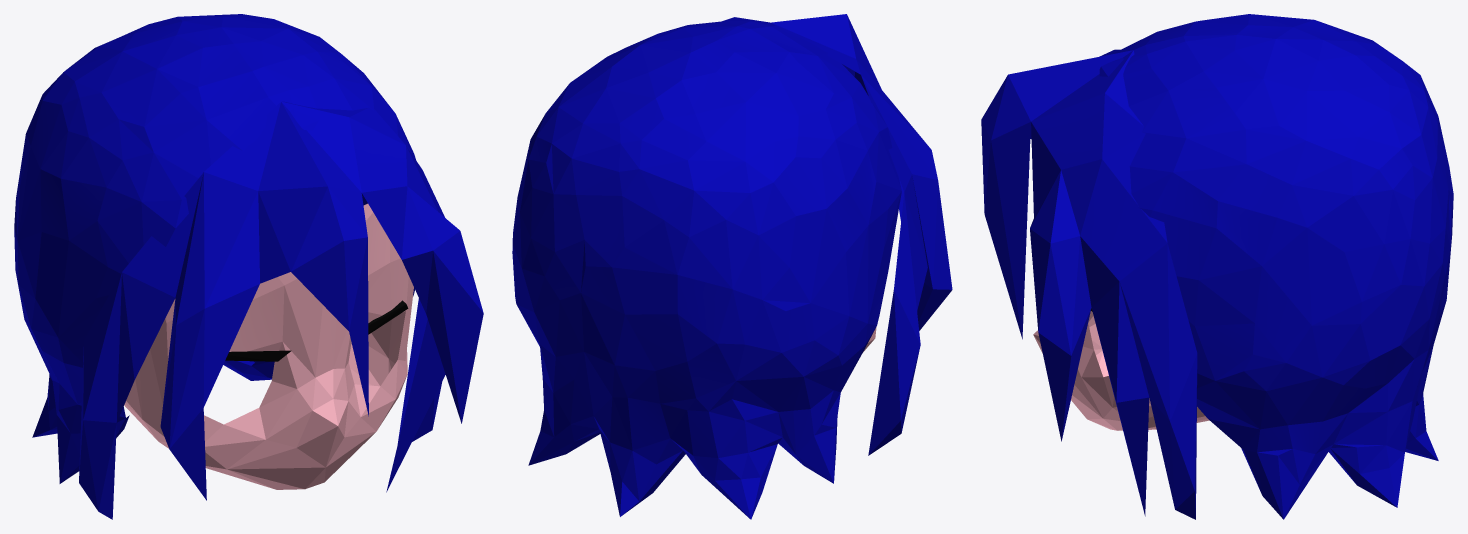
Rendered from aria_head_simple.dae.
3 views of the same model, side by side, from view 1: azimuth 30°, elevation 25°; view 2: azimuth 150°, elevation 25°; view 3: azimuth 270°, elevation 25° (orthographic). The views are drawn at different scales.
Visible parts, largest first — view 1: a5f21a36-859b-4f84-bf82-5e4c98789c72, a2bf2b2e-cf74-4709-9c45-f41681a4c357, ab307a9d-95cd-4d57-b2db-cdcf153a71d0, b43e9d9f-bdd3-499b-97bf-edc30b891325; view 2: a2bf2b2e-cf74-4709-9c45-f41681a4c357, a5f21a36-859b-4f84-bf82-5e4c98789c72; view 3: a2bf2b2e-cf74-4709-9c45-f41681a4c357, a5f21a36-859b-4f84-bf82-5e4c98789c72, ab307a9d-95cd-4d57-b2db-cdcf153a71d0.
Part boxes in pixels (x1,y1,x2,y2): a5f21a36-859b-4f84-bf82-5e4c98789c72: (79, 101, 483, 519); a2bf2b2e-cf74-4709-9c45-f41681a4c357: (14, 14, 415, 483); ab307a9d-95cd-4d57-b2db-cdcf153a71d0: (124, 203, 413, 489); b43e9d9f-bdd3-499b-97bf-edc30b891325: (225, 350, 291, 361); a2bf2b2e-cf74-4709-9c45-f41681a4c357: (512, 21, 901, 519); a5f21a36-859b-4f84-bf82-5e4c98789c72: (722, 14, 952, 455); a2bf2b2e-cf74-4709-9c45-f41681a4c357: (1099, 14, 1453, 519); a5f21a36-859b-4f84-bf82-5e4c98789c72: (981, 49, 1197, 519); ab307a9d-95cd-4d57-b2db-cdcf153a71d0: (1033, 311, 1209, 430).
Size of the model in its own units: 253 by 286 by 288.
